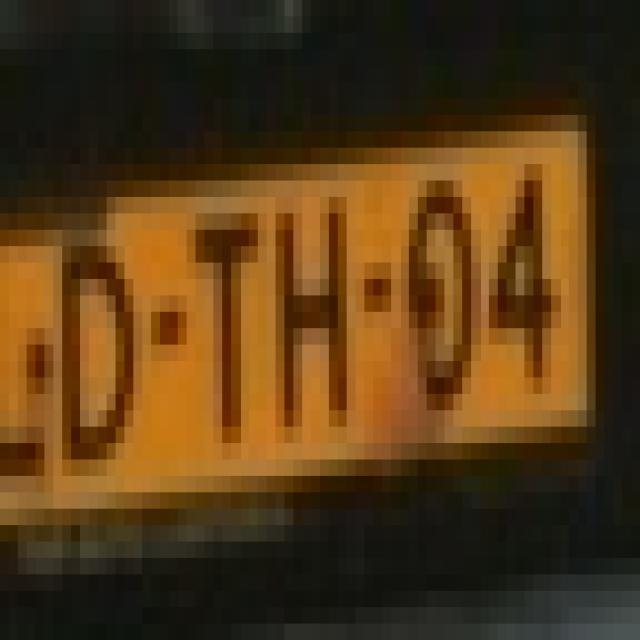LicensePlate: (1, 75, 604, 558)
